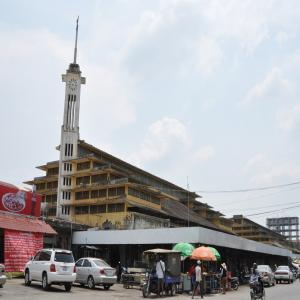Vehicle-registration-plate: (258, 272, 266, 282), (110, 270, 116, 281), (64, 267, 68, 271)
